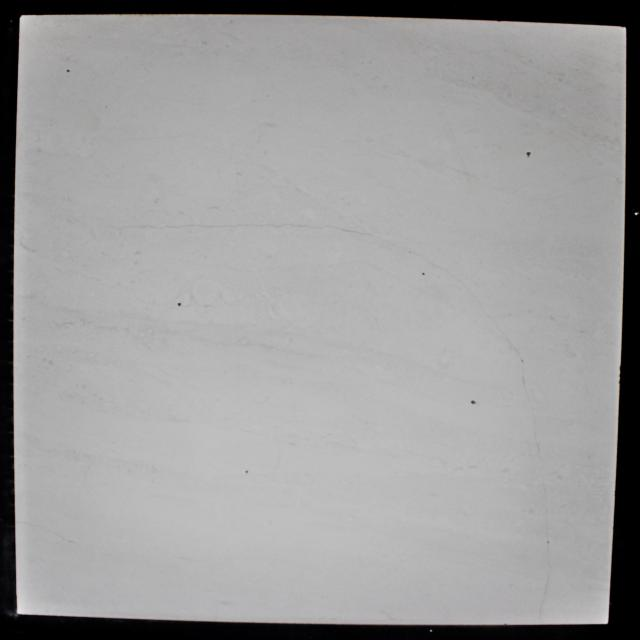hole: (469, 399, 476, 406), (526, 151, 532, 158), (177, 302, 181, 308), (244, 470, 249, 474), (66, 69, 70, 73), (422, 272, 425, 276)
line: (513, 348, 528, 392), (125, 223, 197, 230), (335, 226, 373, 236), (200, 223, 256, 229), (266, 222, 308, 229), (544, 573, 550, 597)
